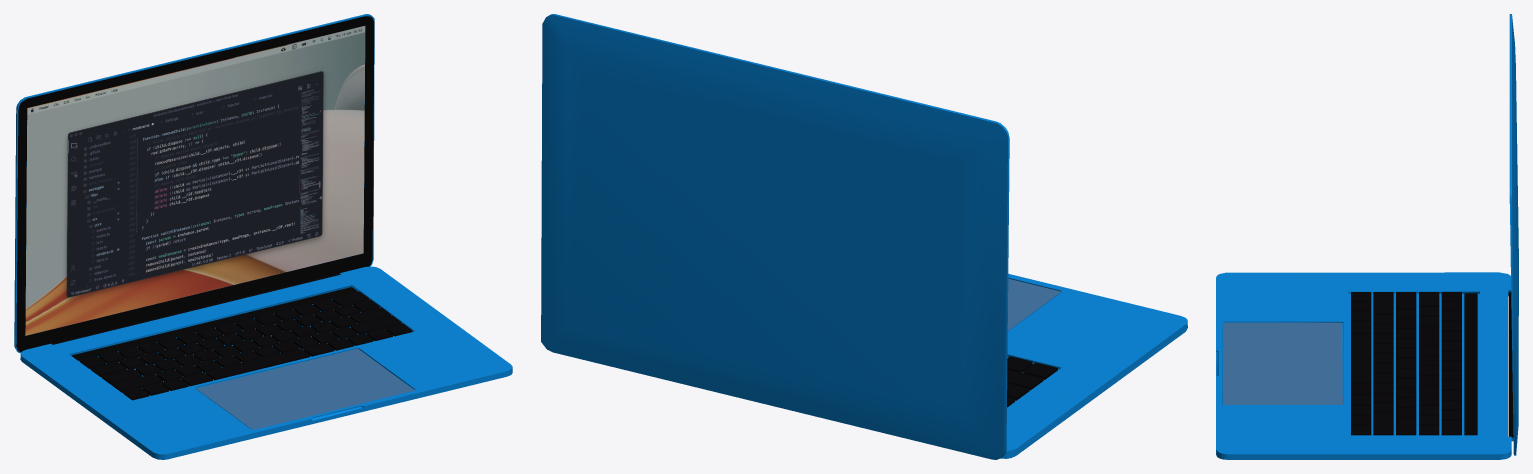
3 views of the same model, side by side, from view 1: azimuth 30°, elevation 25°; view 2: azimuth 150°, elevation 25°; view 3: azimuth 270°, elevation 25° (orthographic). The views are drawn at different scales.
Visible parts, largest first — view 1: screen, keyboard; view 2: keyboard; view 3: keyboard.
Part boxes in pixels (x1,y1,x2,y2): screen: (25,26,365,335); keyboard: (14,14,512,459); keyboard: (541,14,1187,459); keyboard: (1216,14,1518,459).
Size of the model in its own units: 8.8 by 6.16 by 6.2.
2 materials, 2 textured.
